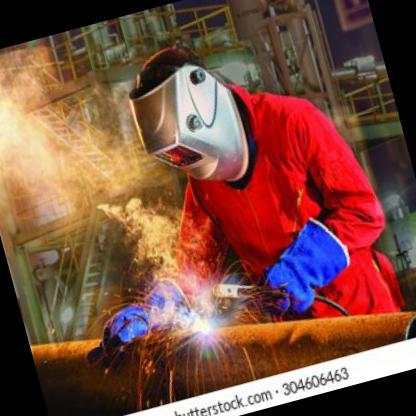Gloves: (72, 268, 203, 376), (239, 207, 361, 322)
